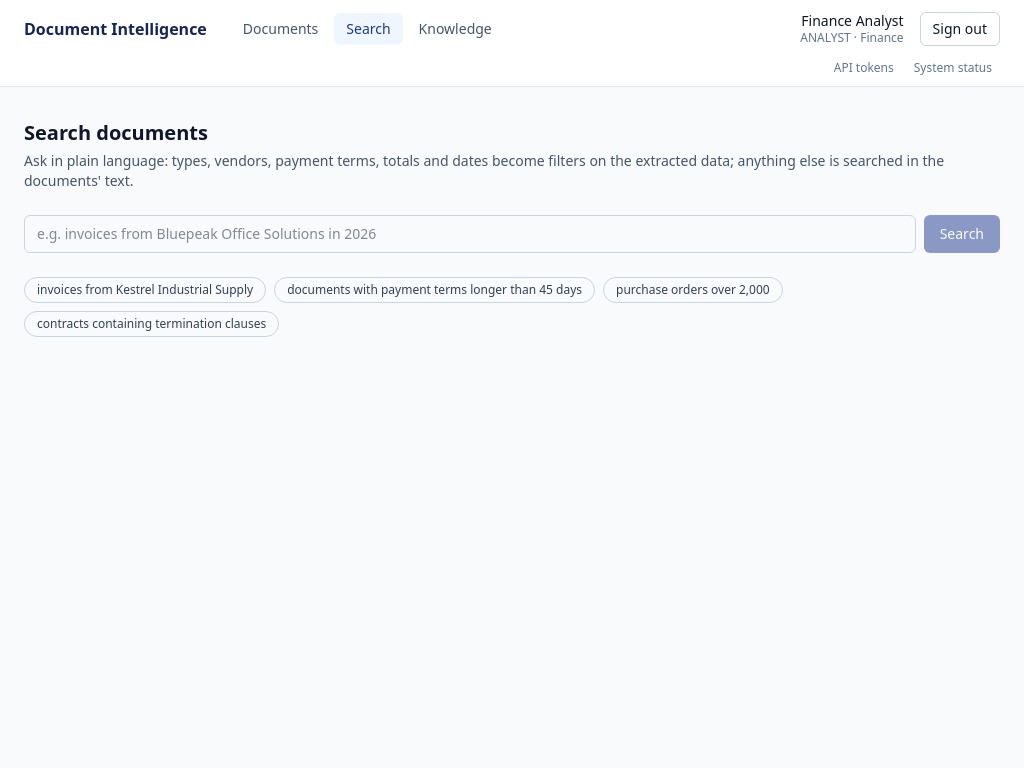
Test case: document search › runs an example and explains how it was understood
Click the button "documents with payment terms longer than 45 days".
click(435, 290)  # box [274,277,595,303]
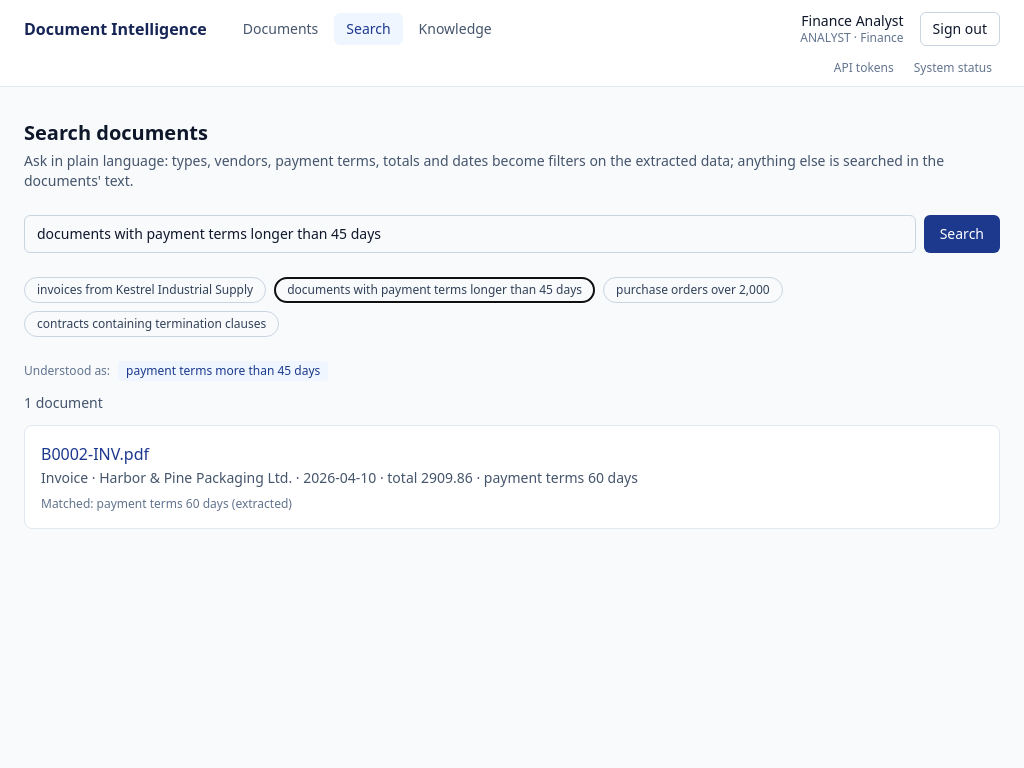
Now the field named "Search" holds "documents with payment terms longer than 45 days", box [24,215,916,253]
Now the text "payment terms more than 45 days" is shown, box [118,361,328,381]
Now the text "Matched: payment terms 60 days (extracted)" is shown, box [41,495,292,512]
